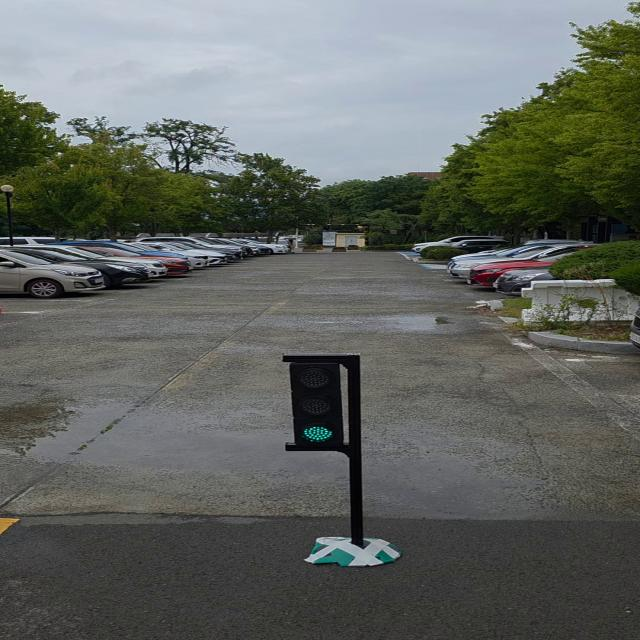green: (288, 359, 352, 449)
